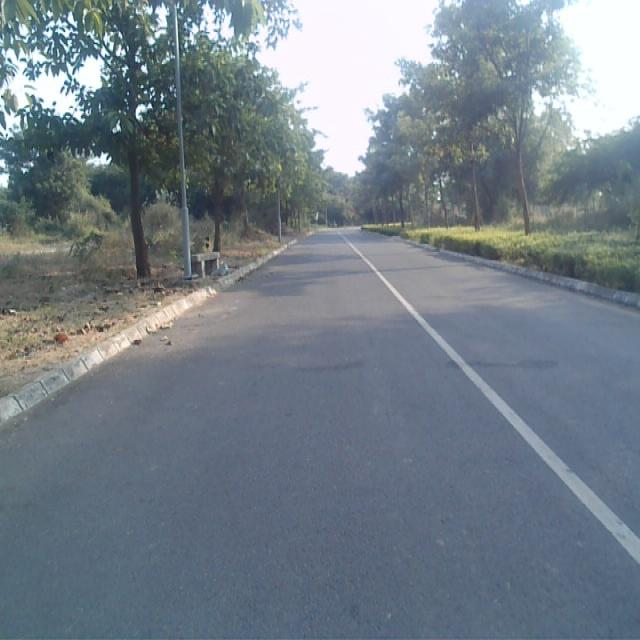lane: (0, 234, 640, 640)
